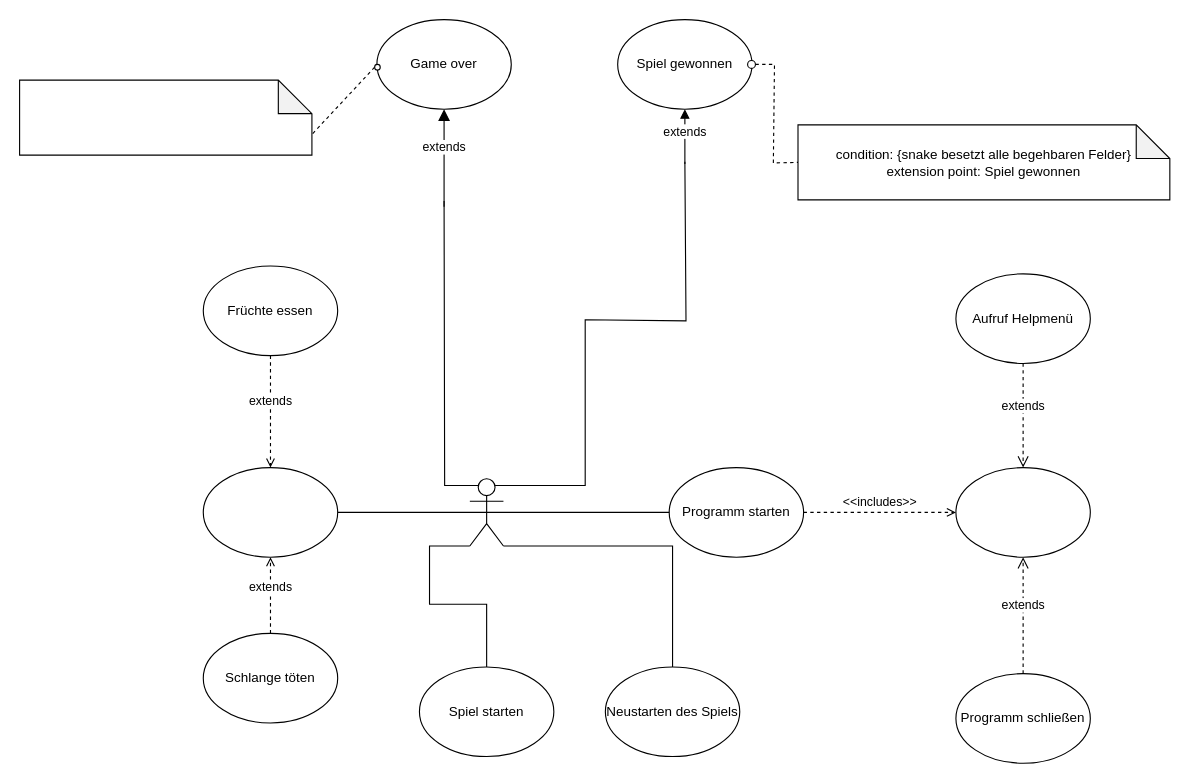
The diagram is 1189 pixels wide and 783 high, and some of its shapes have lost their labels. Here are the shapes that lost their labels. From the top down, the centre of each, then its label:
point 165,117: condition: {snake läuft in Wand} extension point: Schlange tod
point 270,511: Schlange bewegen
point 486,512: Spieler
point 1022,511: Startmenü
